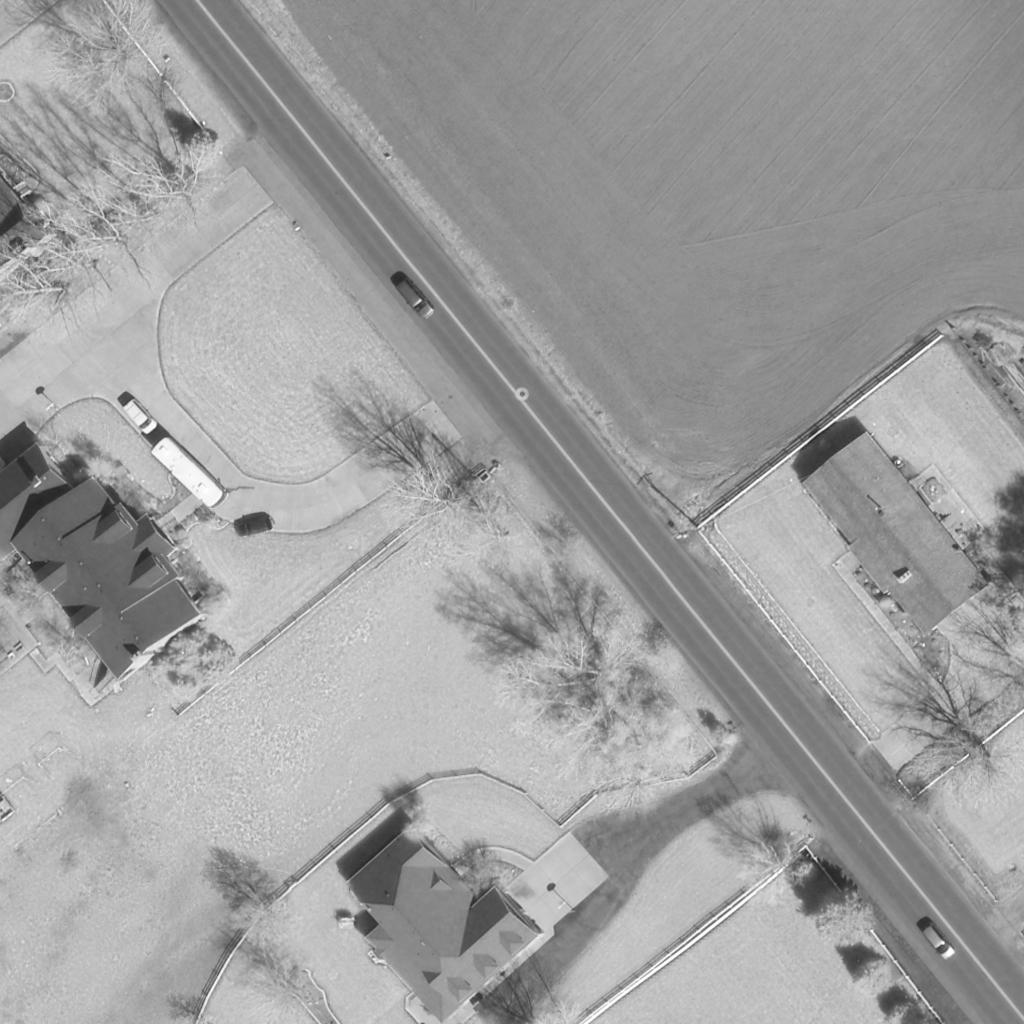vehicle: (395, 278, 439, 320), (922, 922, 958, 962), (121, 398, 159, 434), (233, 513, 275, 537)
